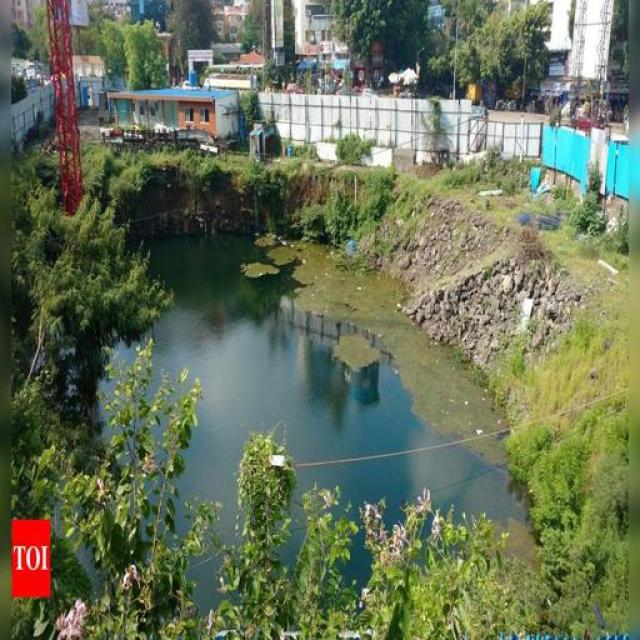puddle: (213, 308, 402, 452), (131, 220, 269, 346), (156, 375, 238, 559), (363, 434, 512, 519)
